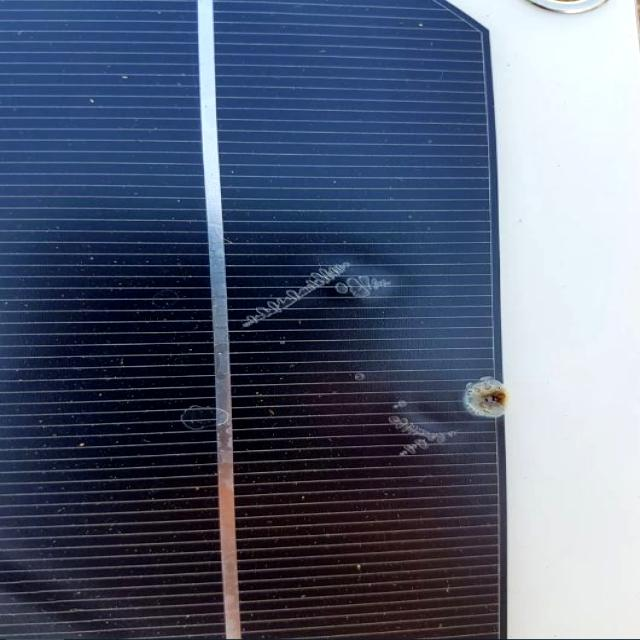shadow: (443, 358, 530, 448)
